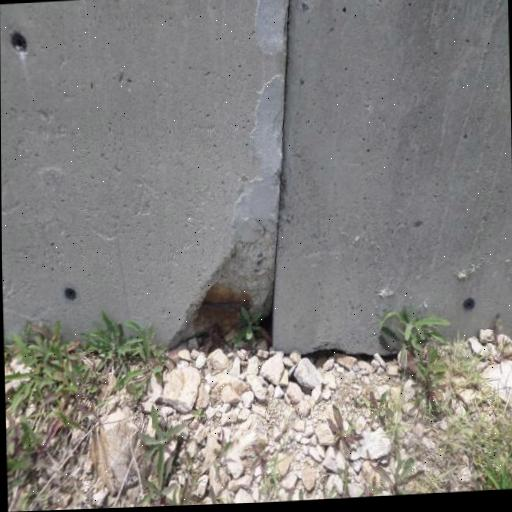exposed_rebar: (203, 324, 221, 354), (201, 301, 248, 312)
